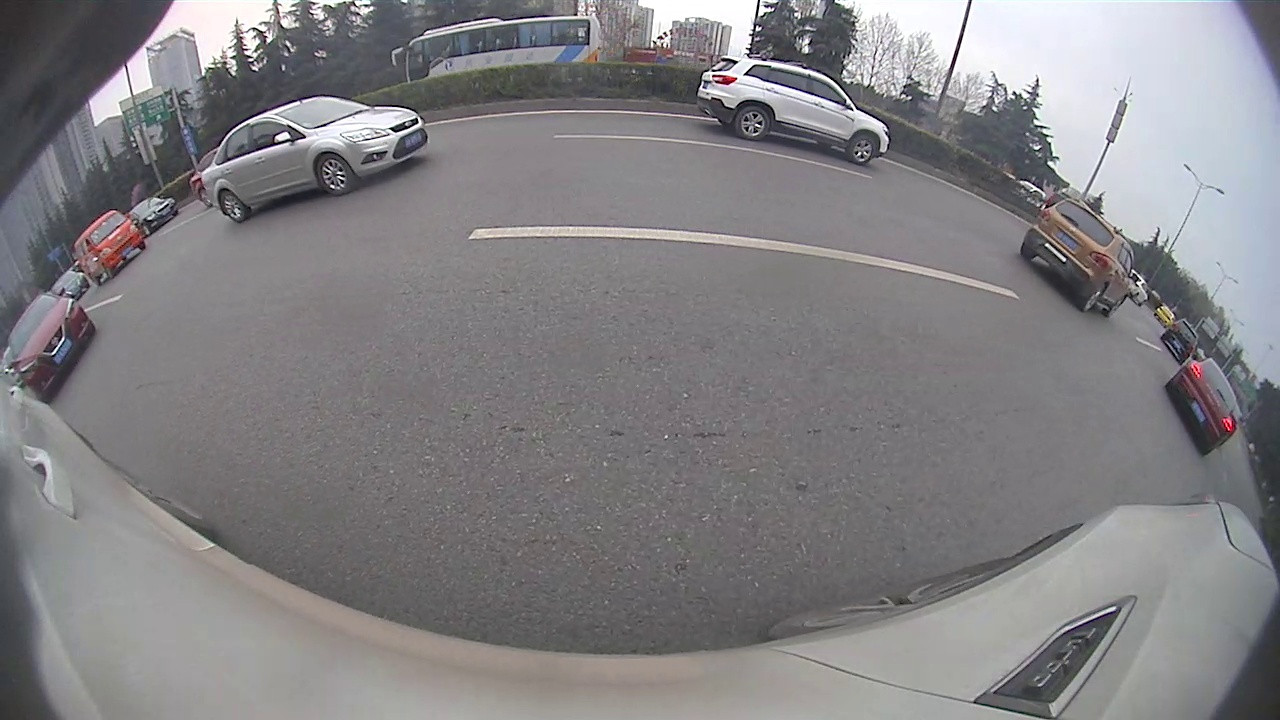car: (200, 95, 429, 223), (695, 53, 891, 167), (1020, 195, 1138, 319), (4, 290, 95, 403), (1162, 355, 1242, 458), (75, 209, 146, 285), (123, 197, 180, 236), (1160, 319, 1202, 365)
front: (315, 152, 354, 198), (846, 133, 878, 166)
rear: (735, 105, 771, 142), (219, 190, 247, 224)
truck: (389, 15, 604, 84)
